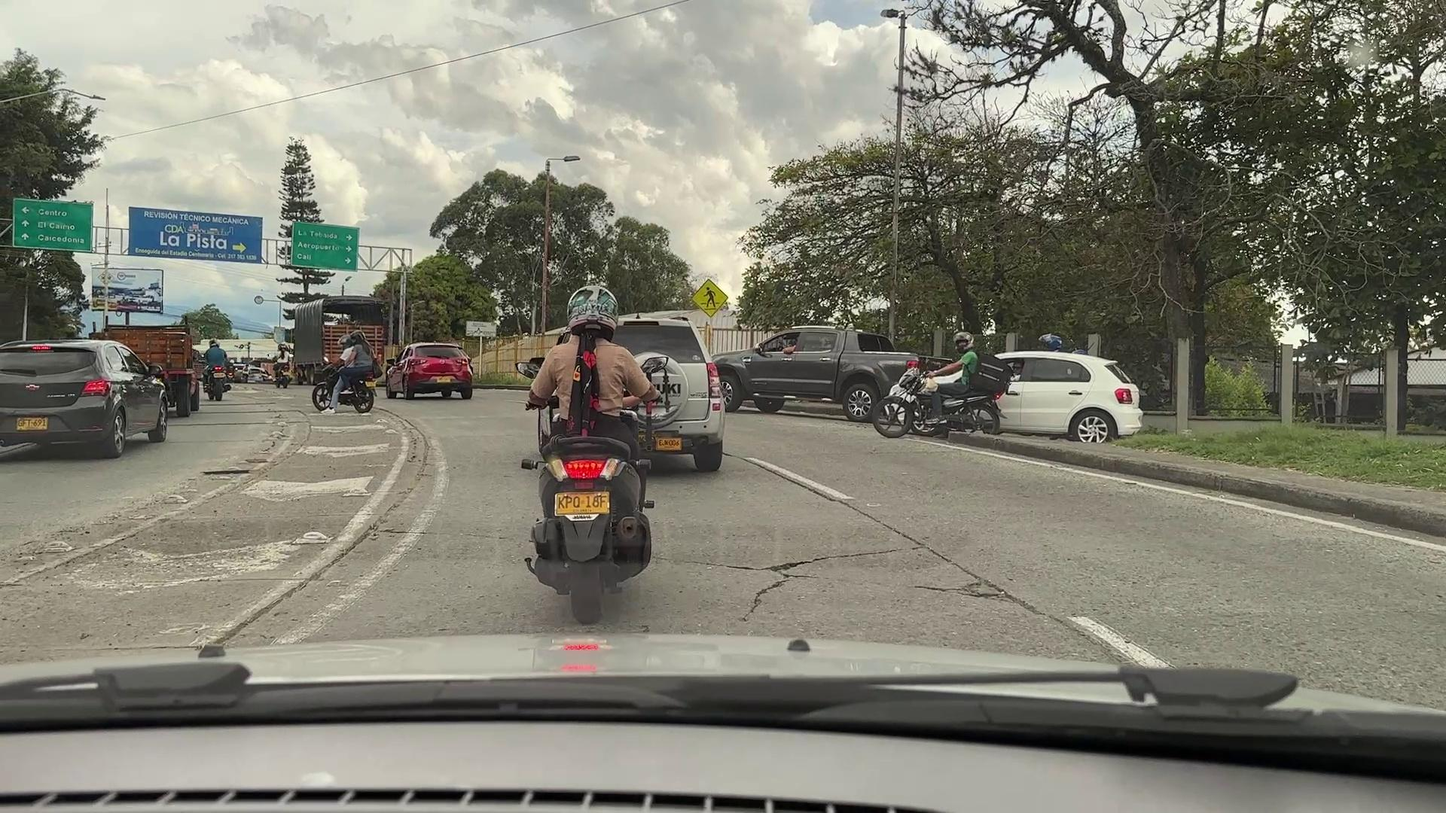bache: (945, 581, 1038, 614)
grieta: (732, 561, 809, 614)
